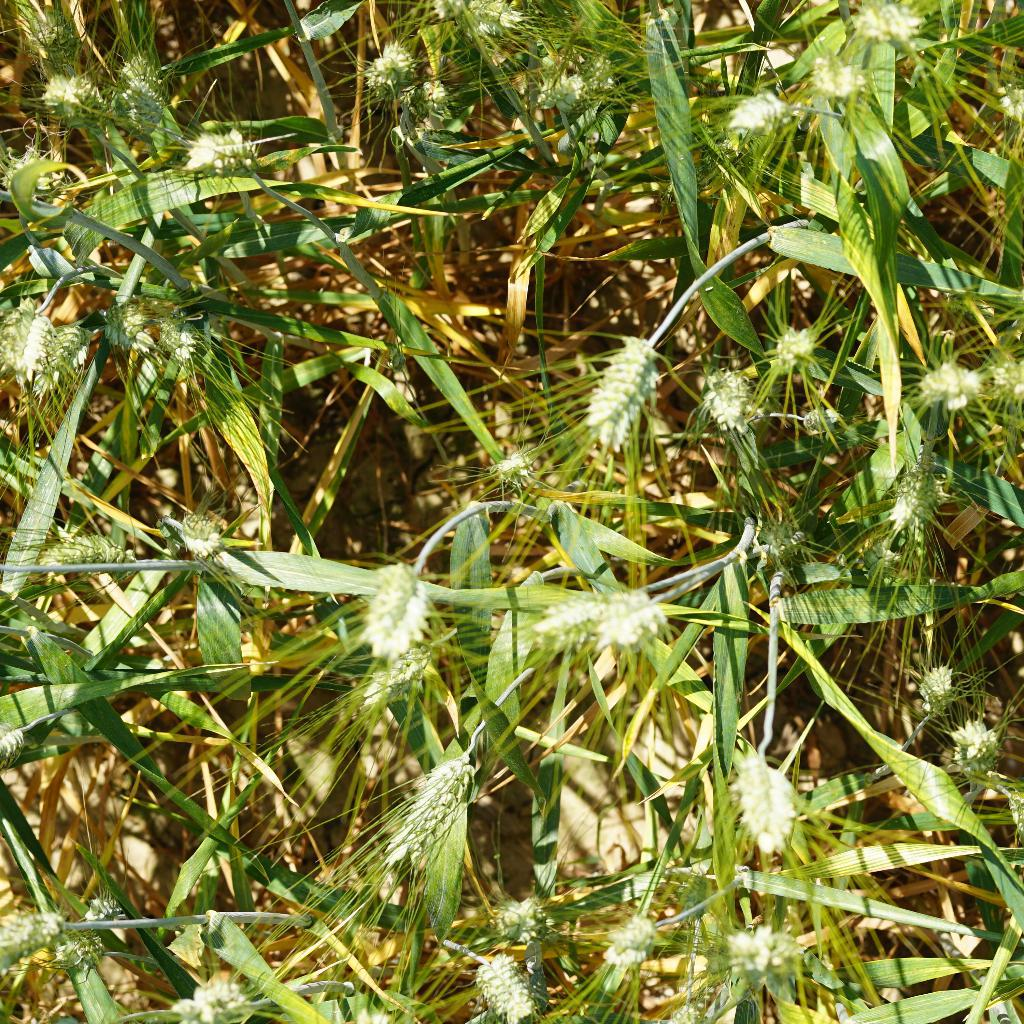0-0: (366, 747, 478, 866), (574, 322, 665, 453), (526, 586, 666, 654), (352, 553, 434, 661), (718, 744, 803, 845), (22, 527, 145, 585), (342, 646, 441, 712), (40, 313, 114, 397), (750, 305, 825, 385), (176, 116, 258, 189), (941, 707, 1015, 785), (688, 357, 759, 438), (0, 285, 64, 373), (464, 952, 542, 1024), (29, 68, 115, 133), (702, 77, 791, 138), (892, 449, 944, 552), (2, 142, 67, 224), (587, 908, 657, 983), (159, 505, 242, 568), (25, 8, 94, 83), (116, 56, 175, 142), (908, 350, 983, 415), (793, 43, 867, 107), (354, 34, 419, 105), (0, 902, 89, 952), (721, 924, 794, 984), (148, 295, 212, 363), (481, 890, 557, 944), (750, 500, 808, 570), (171, 974, 246, 1024), (462, 0, 529, 51), (90, 303, 156, 354), (845, 0, 929, 40), (907, 654, 968, 709), (531, 64, 593, 118), (400, 75, 467, 124), (979, 67, 1024, 139), (697, 122, 761, 171), (481, 438, 538, 489), (49, 929, 108, 978), (985, 339, 1024, 408), (657, 162, 714, 206)
